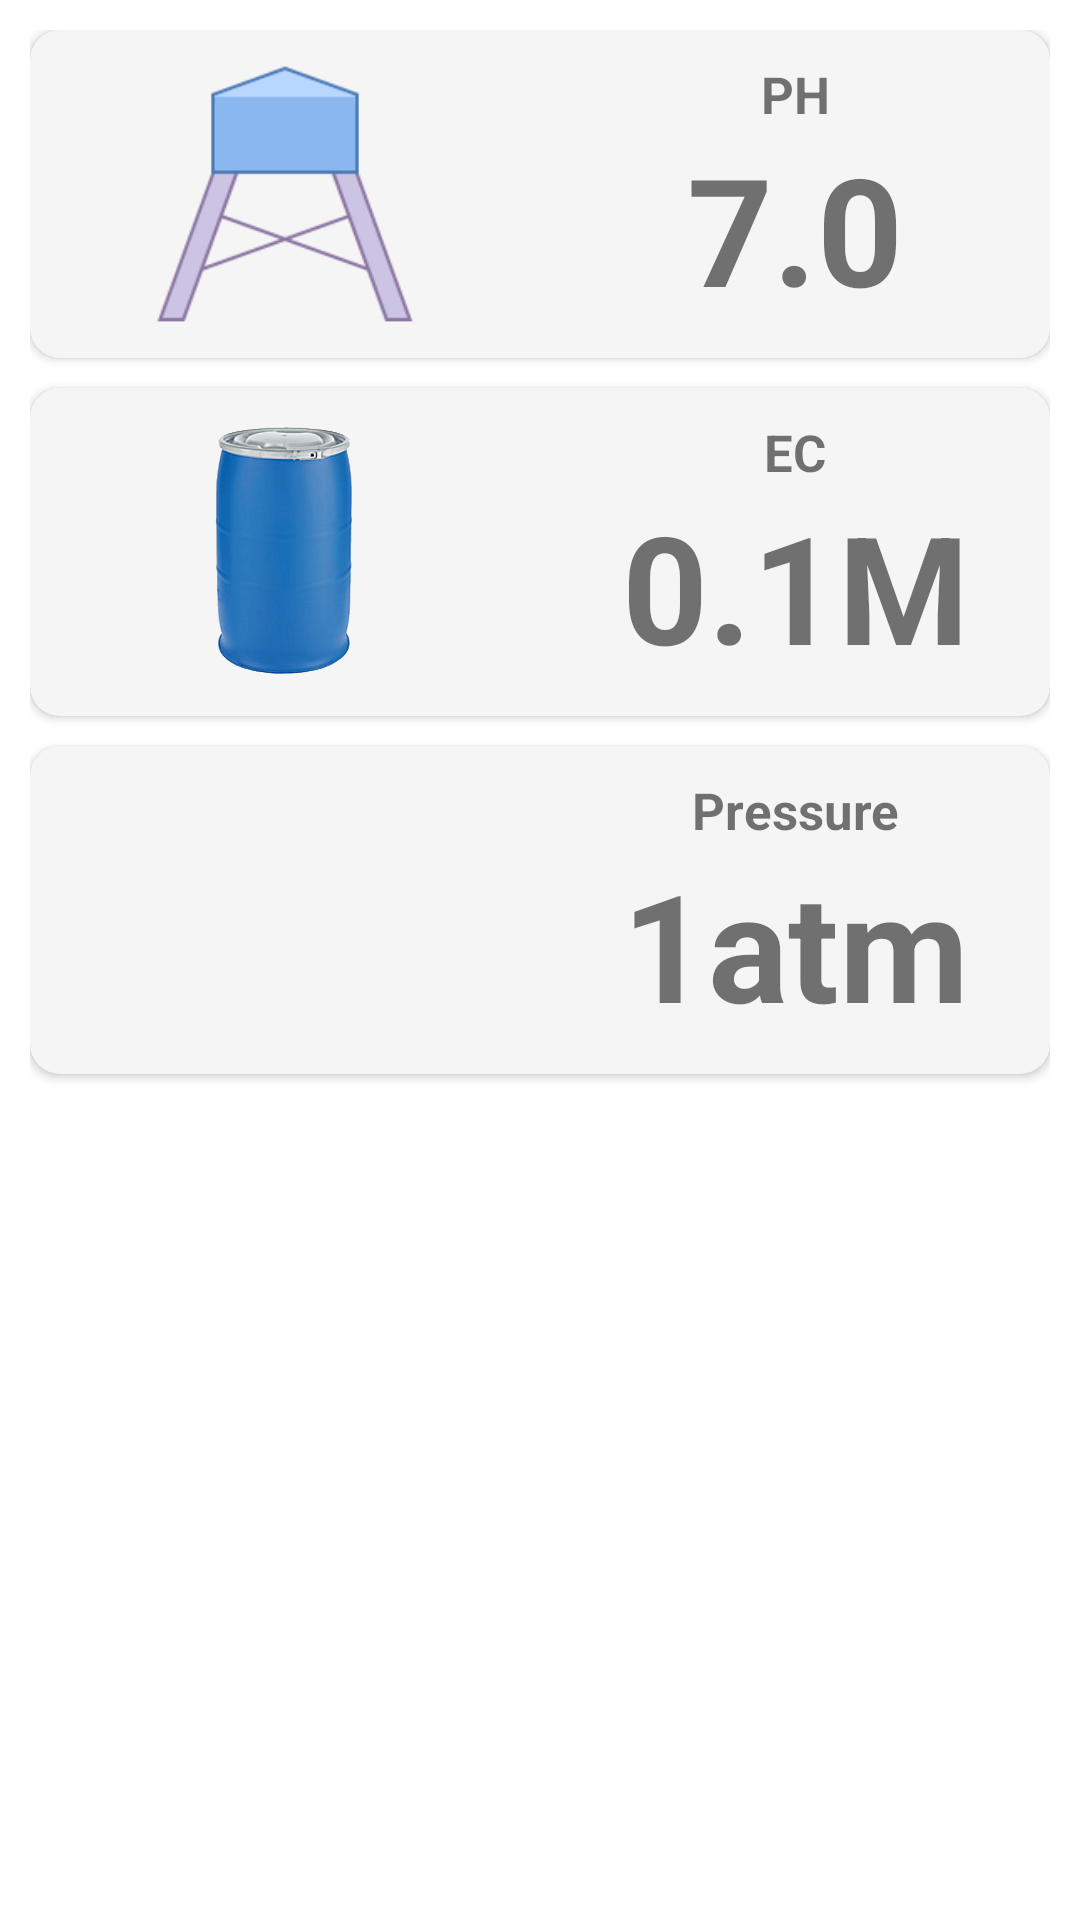

Where icons sit on this 1080x1920 app screen, as (x1, y1, x2, y2):
chemical bucket: (216, 427, 352, 674)
